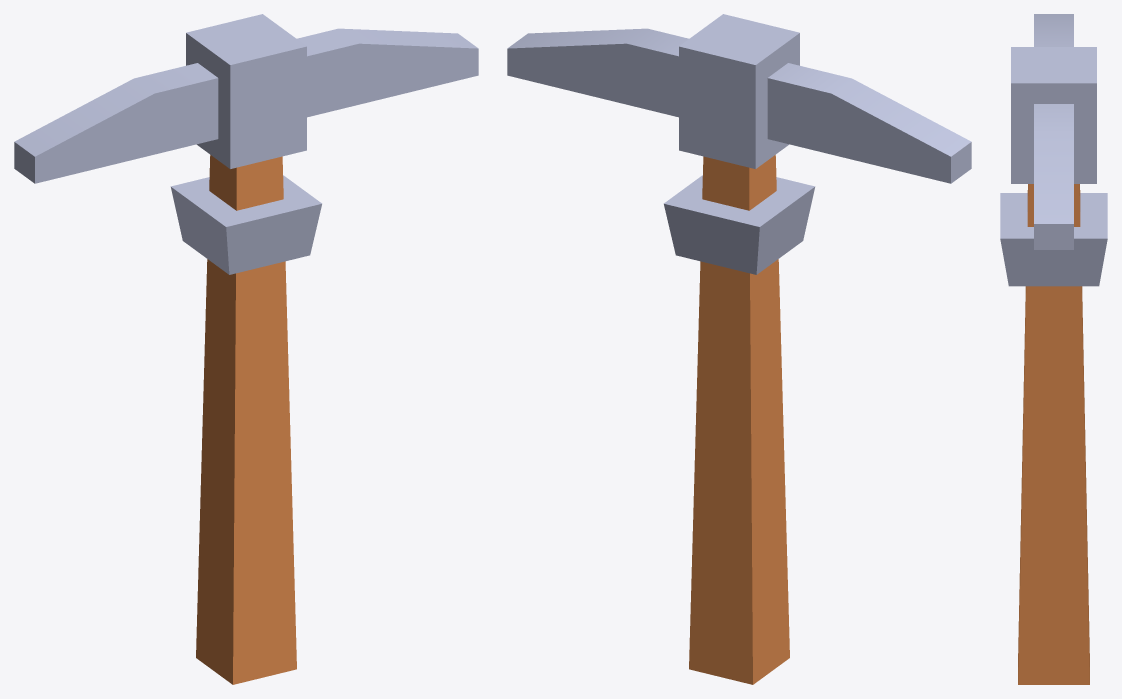
The model's file is toolPickaxe.fbx.
3 views of the same model, side by side, from view 1: azimuth 30°, elevation 25°; view 2: azimuth 150°, elevation 25°; view 3: azimuth 270°, elevation 25° (orthographic). The views are drawn at different scales.
Visible parts, largest first — view 1: toolPickaxe; view 2: toolPickaxe; view 3: toolPickaxe.
Boxes of the visible parts, bbox=[...] form: toolPickaxe: bbox=[14, 14, 478, 684]; toolPickaxe: bbox=[507, 14, 971, 684]; toolPickaxe: bbox=[1000, 14, 1107, 684].
Bounding box in the file's own units: 1.79 × 2.4 × 0.387.
